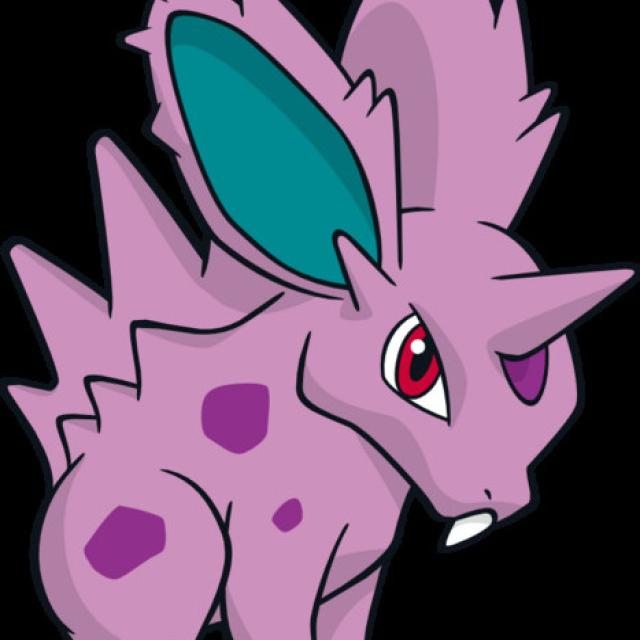Nidorino: (7, 3, 640, 640)
